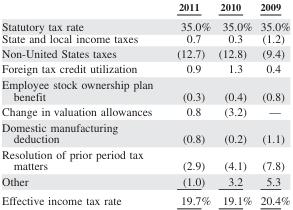table: (1, 0, 289, 206)
table column: (1, 0, 164, 206), (164, 0, 213, 206), (213, 0, 255, 206), (255, 0, 289, 206)
table column header: (1, 0, 289, 16)
table row: (1, 118, 289, 146), (1, 76, 289, 103), (1, 146, 289, 173), (1, 173, 289, 190), (1, 0, 289, 16), (1, 60, 289, 76), (1, 190, 289, 206), (1, 16, 289, 31), (1, 45, 289, 60), (1, 103, 289, 118), (1, 31, 289, 45)
